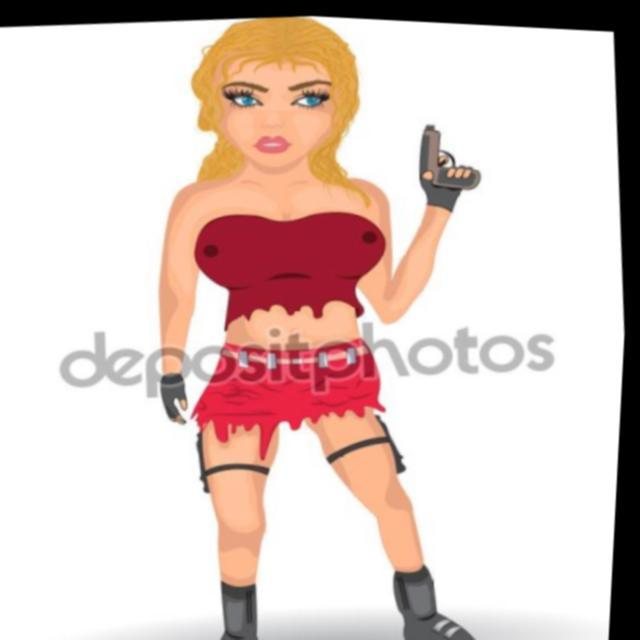weapon: (413, 110, 488, 196)
